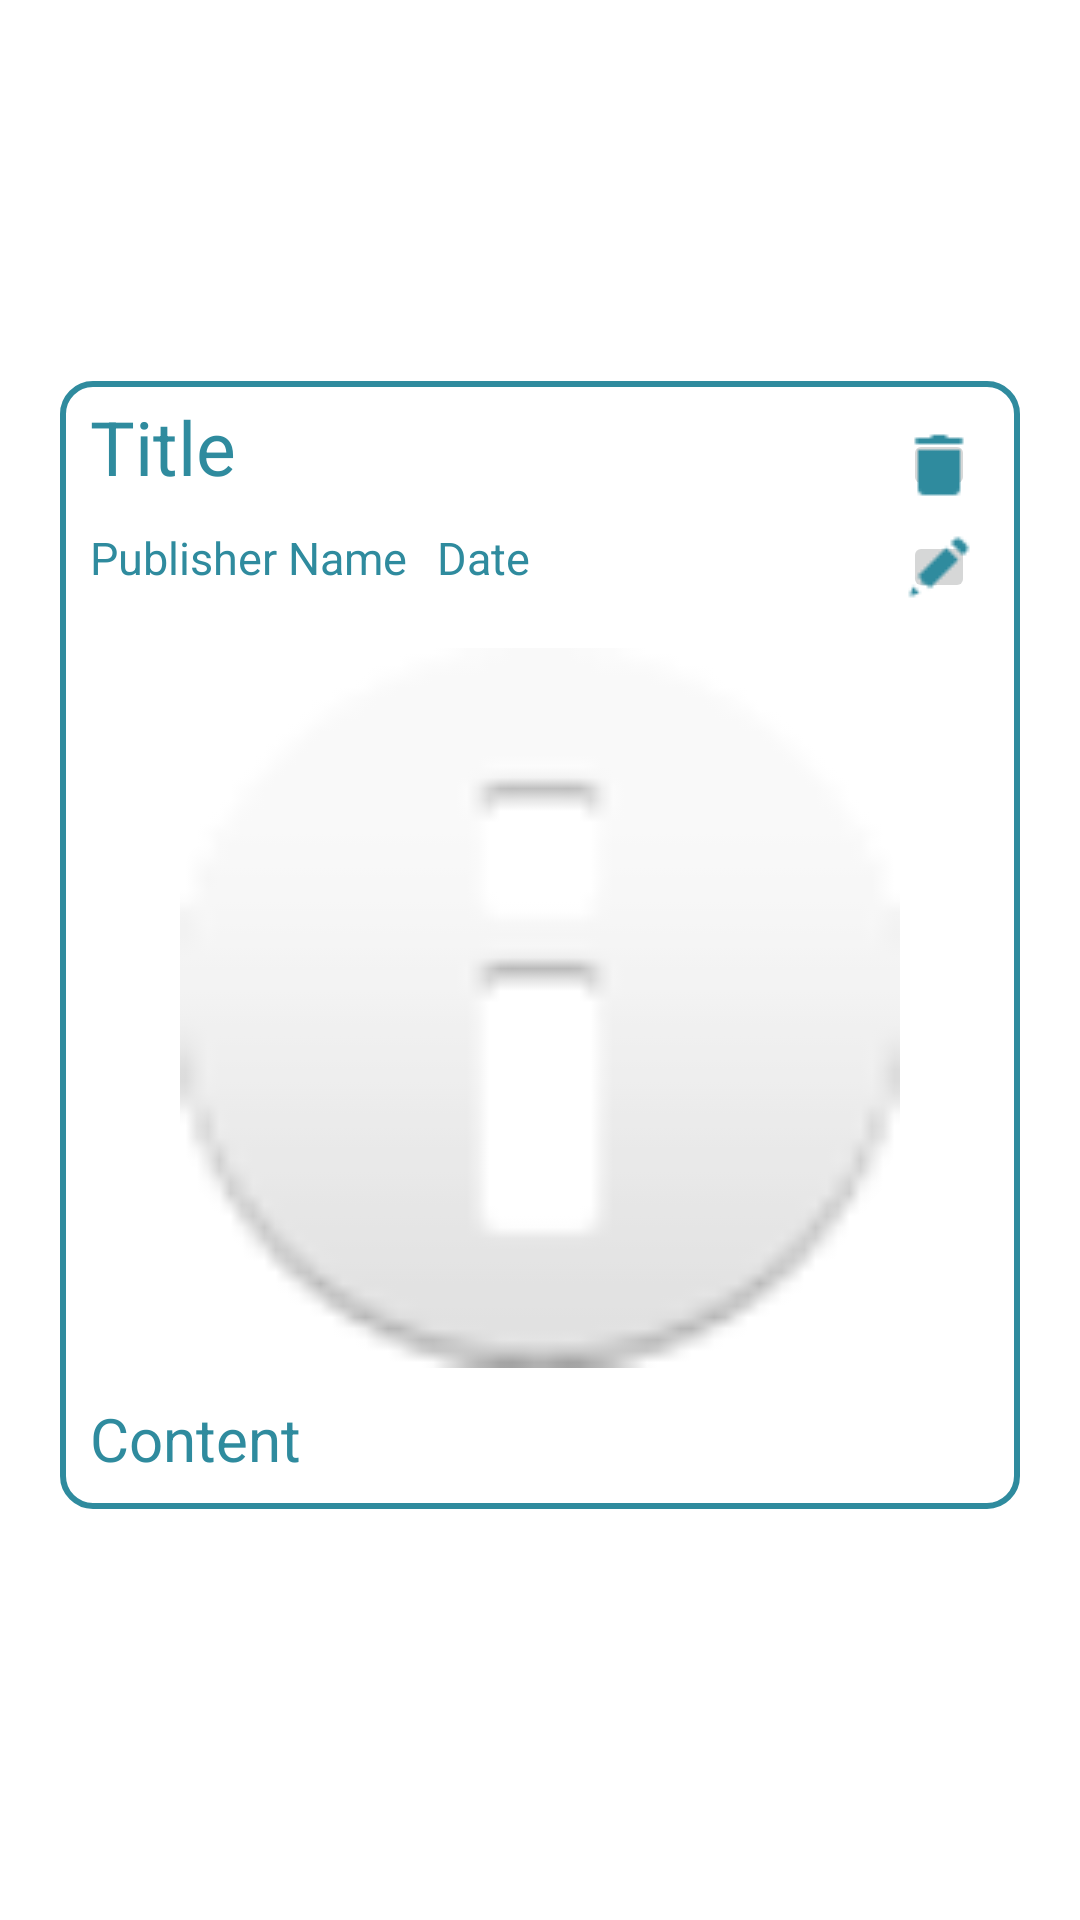

Icons on this 1080×1920 Android screen, each with the point to tap as point (x, y):
edit: point (939, 567)
trash: point (939, 465)
